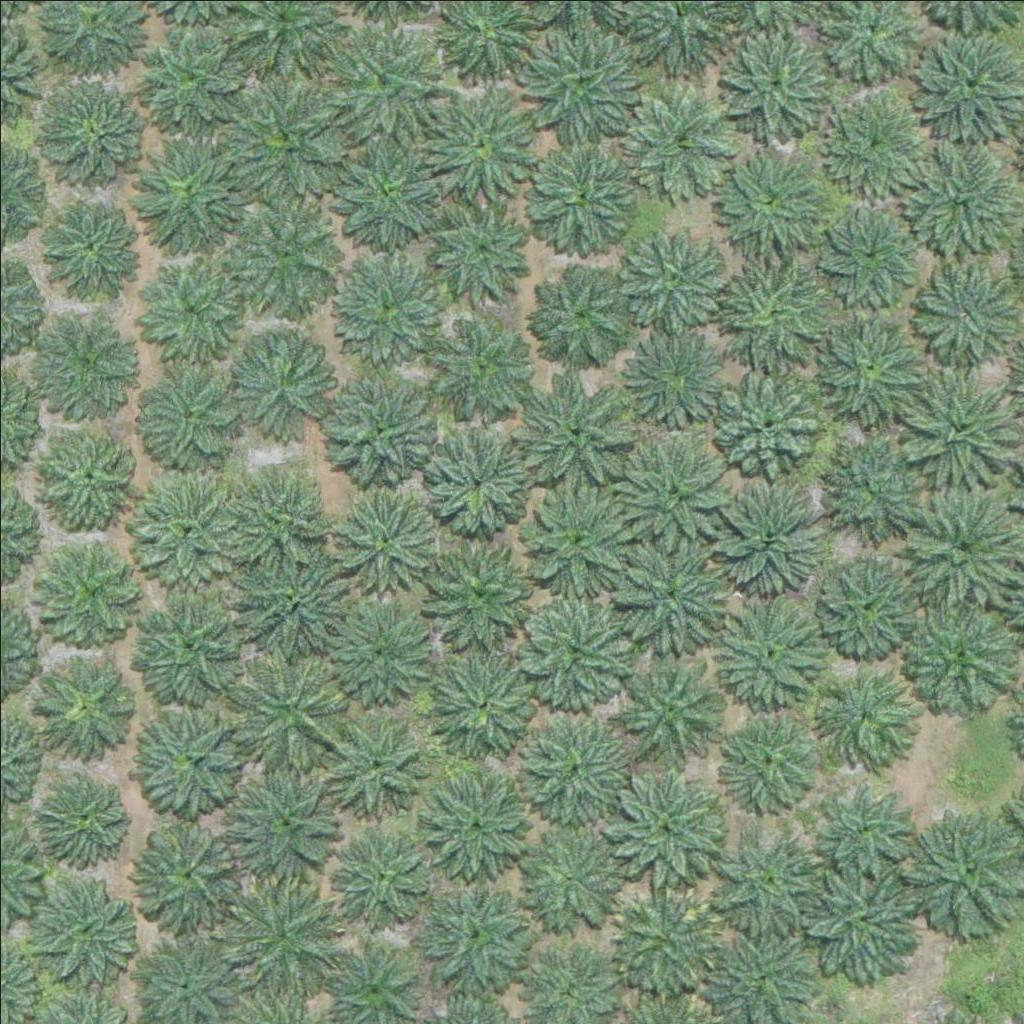Kelapa_Sawit: (129, 460, 254, 586), (801, 855, 926, 981), (898, 594, 1023, 720), (712, 243, 837, 369), (702, 133, 827, 259), (896, 368, 1021, 494), (133, 8, 258, 134), (717, 25, 842, 151), (131, 250, 244, 364), (227, 328, 340, 442), (138, 137, 251, 251), (900, 143, 1013, 257), (426, 88, 539, 202), (229, 659, 342, 772), (237, 546, 350, 659), (328, 481, 441, 594), (424, 770, 537, 883), (606, 774, 719, 887), (609, 647, 722, 760), (615, 534, 728, 647), (716, 600, 829, 713), (616, 426, 729, 539), (522, 483, 635, 596), (230, 194, 343, 307), (417, 189, 530, 302), (524, 143, 637, 256), (518, 368, 631, 481), (622, 323, 735, 436), (37, 73, 150, 186), (822, 88, 935, 201), (328, 29, 441, 142), (134, 819, 246, 933), (139, 706, 251, 820), (225, 880, 337, 994), (716, 477, 828, 591), (134, 361, 246, 475), (322, 373, 434, 487), (623, 87, 735, 201), (523, 27, 635, 141), (29, 413, 141, 526), (32, 533, 144, 646), (134, 595, 246, 708), (232, 762, 344, 875), (429, 649, 541, 762), (422, 531, 534, 644), (516, 822, 628, 935), (515, 712, 627, 825), (517, 596, 629, 709), (419, 418, 531, 531), (35, 304, 147, 417), (427, 301, 539, 414), (331, 240, 443, 353), (327, 138, 439, 251), (614, 214, 726, 327), (708, 365, 820, 478), (813, 311, 925, 424), (230, 84, 342, 197), (32, 878, 132, 979), (332, 826, 432, 927), (328, 719, 428, 820), (330, 602, 430, 703), (424, 884, 524, 985), (615, 891, 715, 992), (717, 831, 817, 932), (721, 710, 821, 811), (815, 778, 915, 879), (529, 263, 629, 364), (822, 195, 922, 296), (910, 255, 1010, 356), (28, 765, 128, 865), (27, 655, 127, 755), (817, 664, 917, 764), (819, 555, 919, 655), (834, 432, 934, 532), (36, 190, 136, 290), (246, 480, 321, 555)
